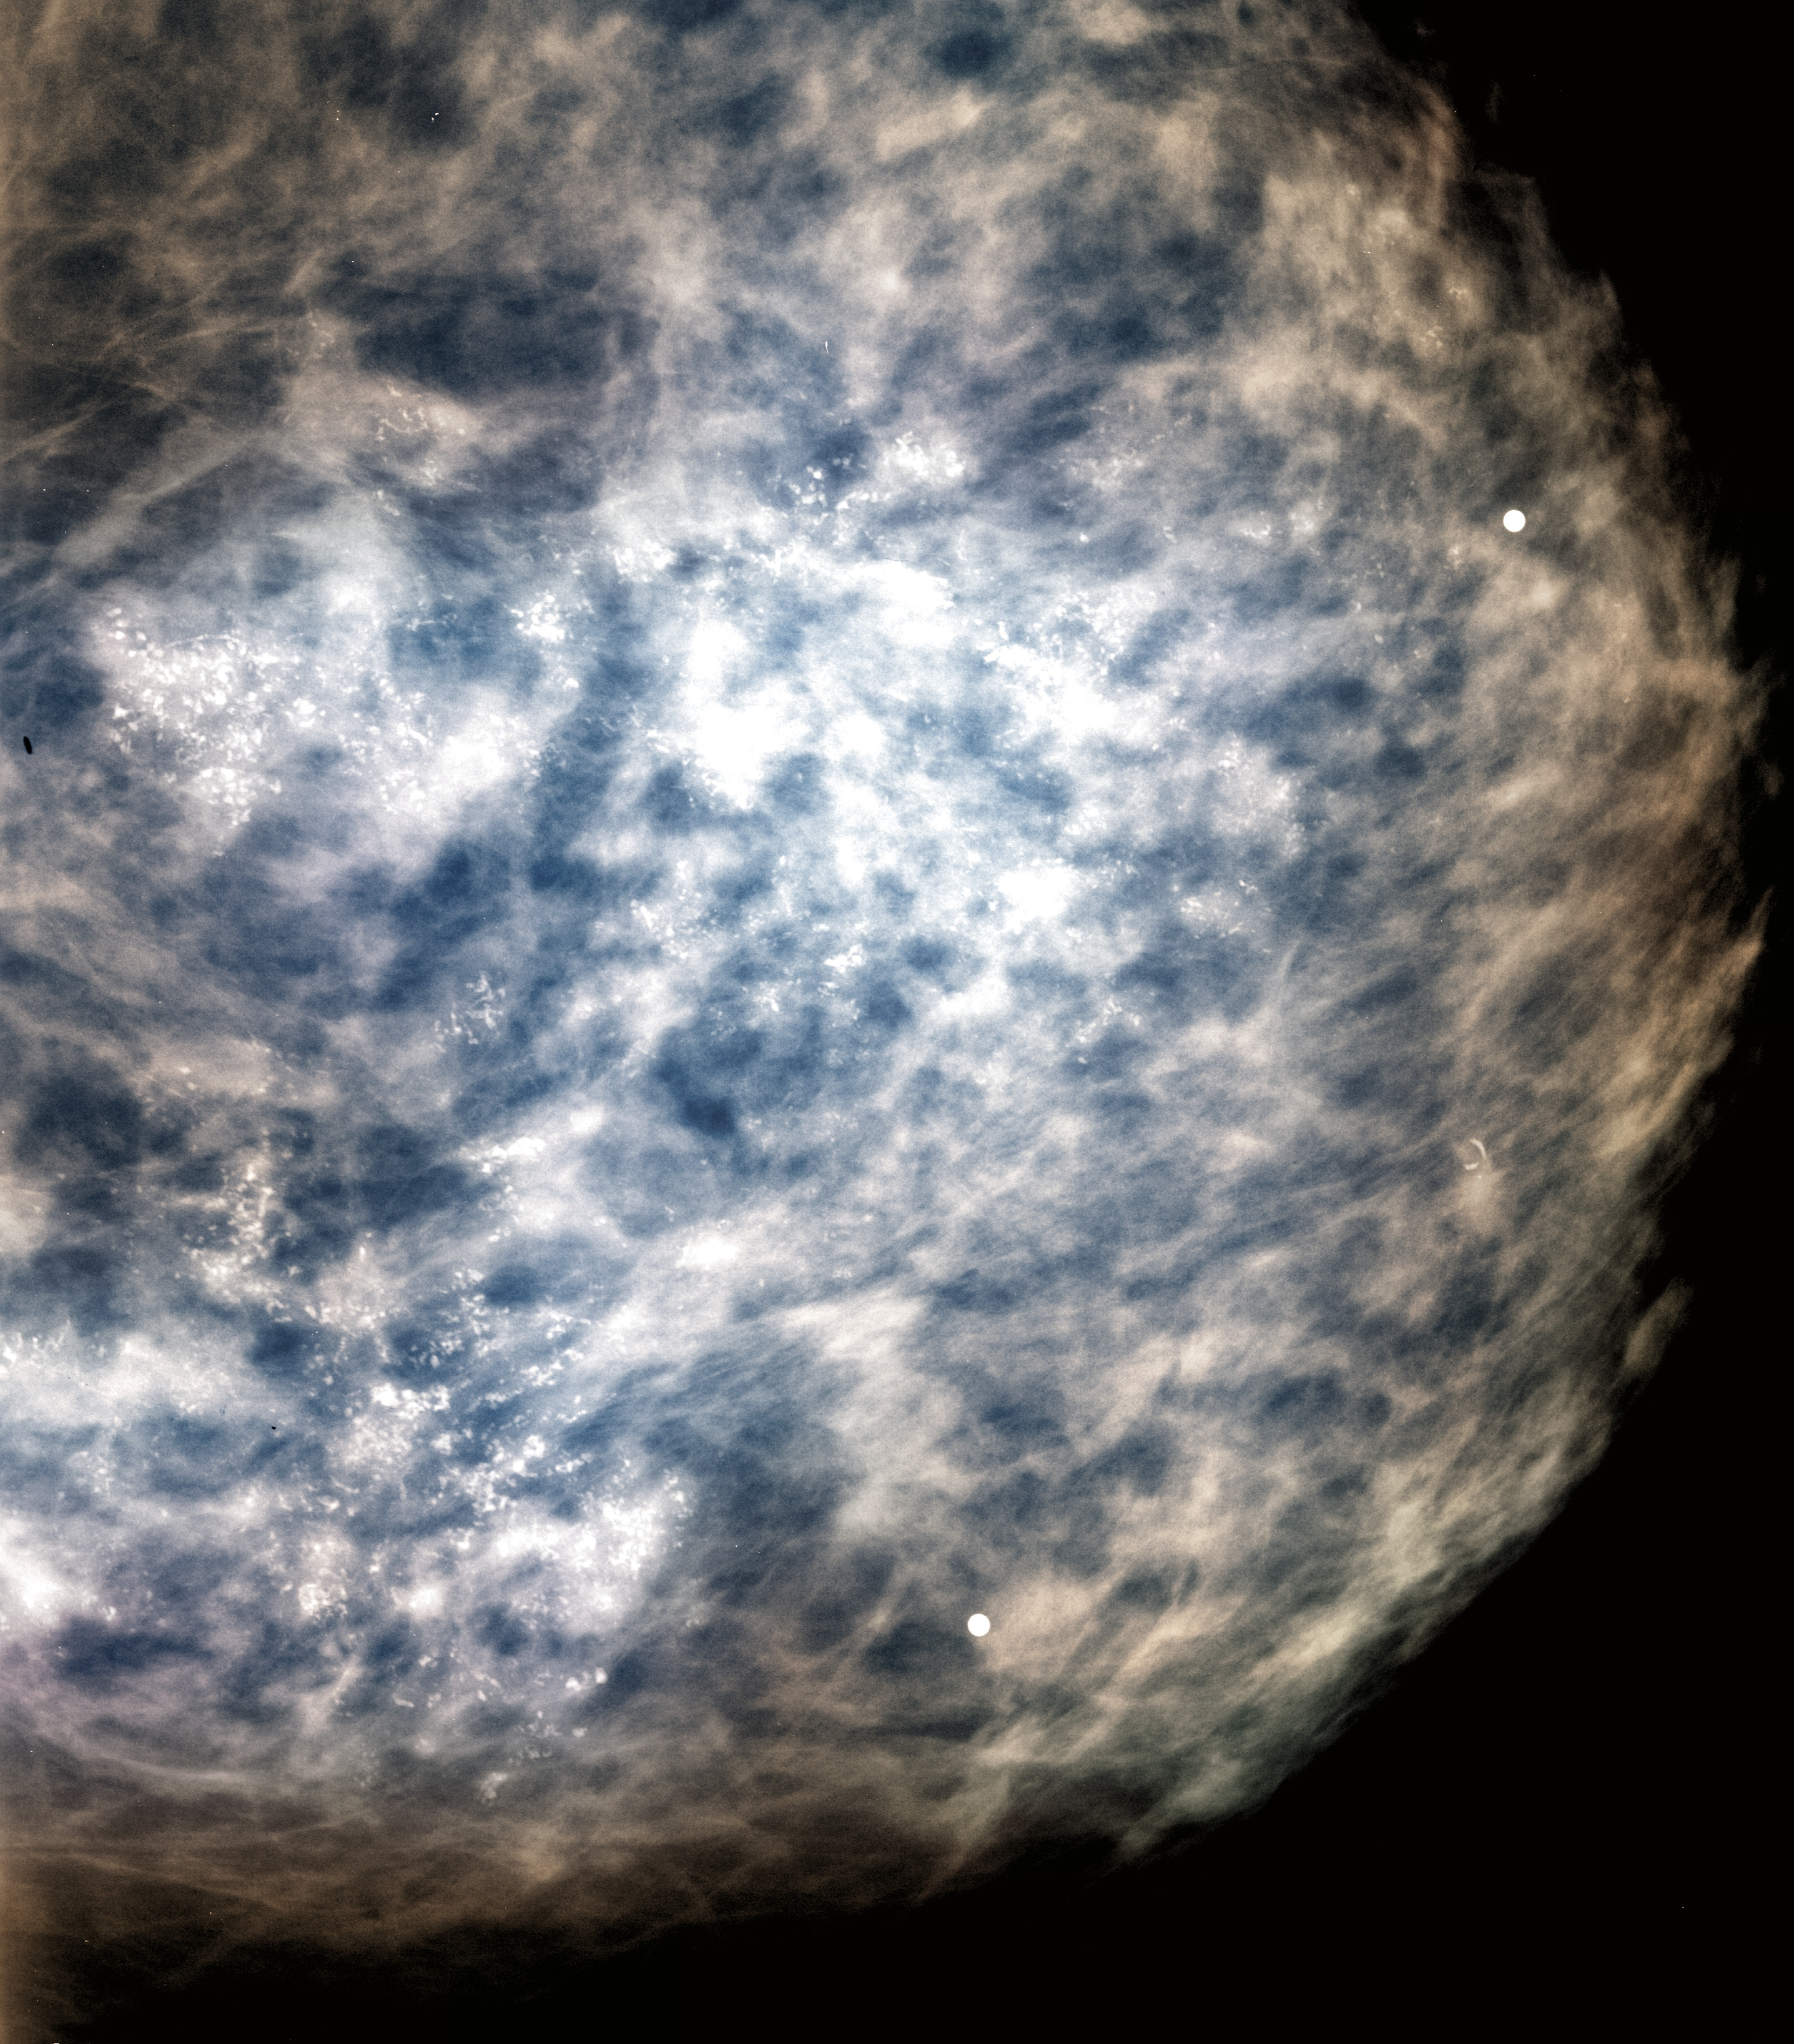tumor: (0, 0, 1794, 2044)
